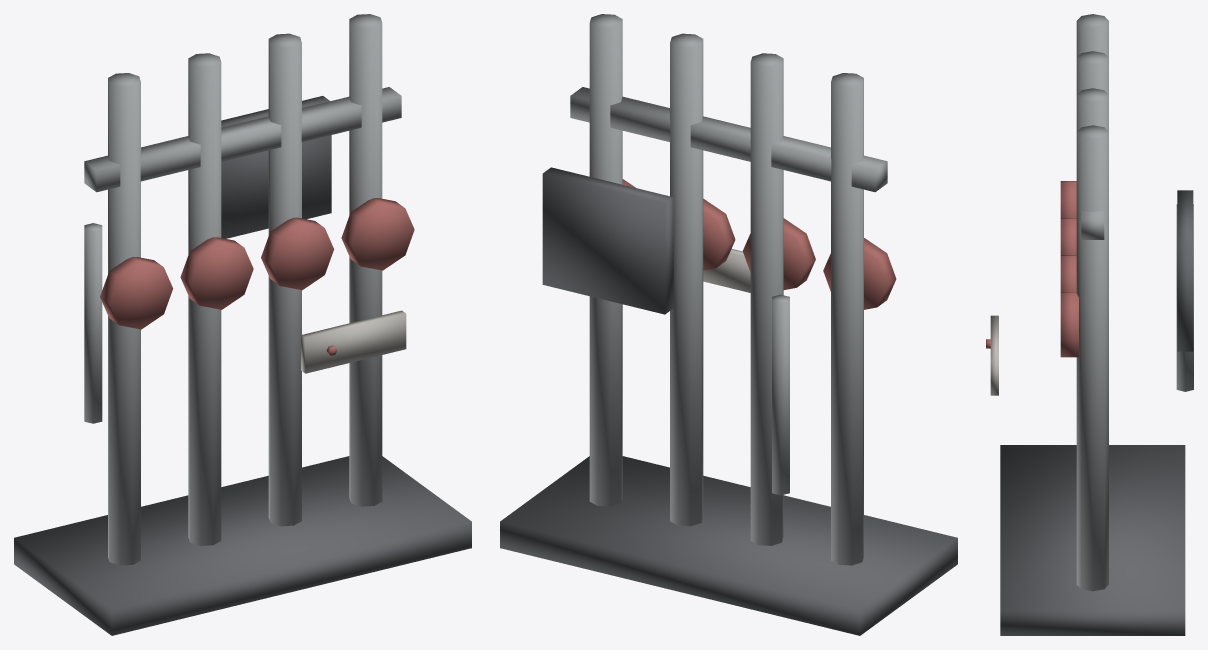
Rendered from sprinkler_riser__service.glb.
The picture shows the model from 3 angles, left to right: view 1: azimuth 30°, elevation 25°; view 2: azimuth 150°, elevation 25°; view 3: azimuth 270°, elevation 25°; orthographic projection. The views are drawn at different scales.
Visible parts, largest first — view 1: world; view 2: world; view 3: world.
Boxes of the visible parts, x1,y1,x2,y2 form: world: (14,14,471,635); world: (500,14,957,635); world: (986,14,1193,635).
Bounding box in the file's own units: 0.85 × 1.14 × 0.4494.
